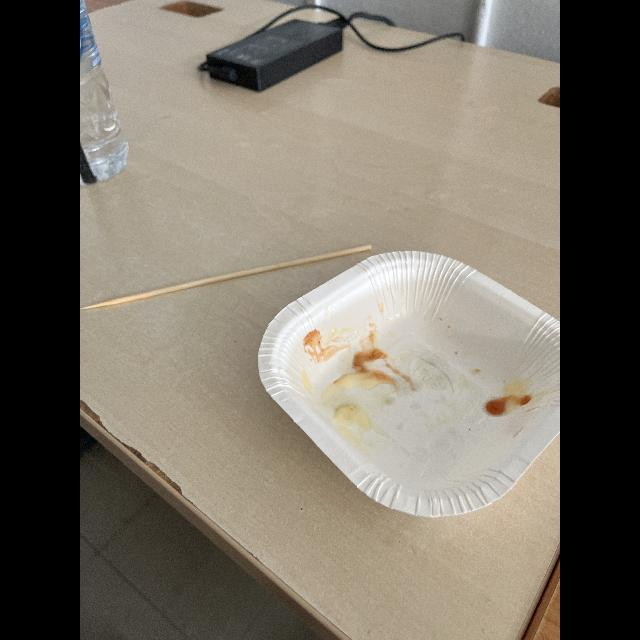cardboard_bowl: (252, 247, 560, 526)
stick: (80, 232, 376, 318)
